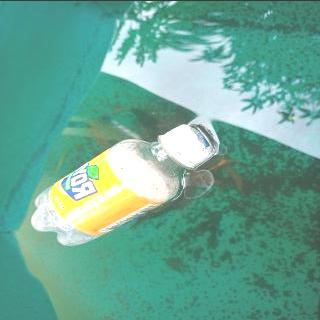bottle: (31, 121, 222, 246)
